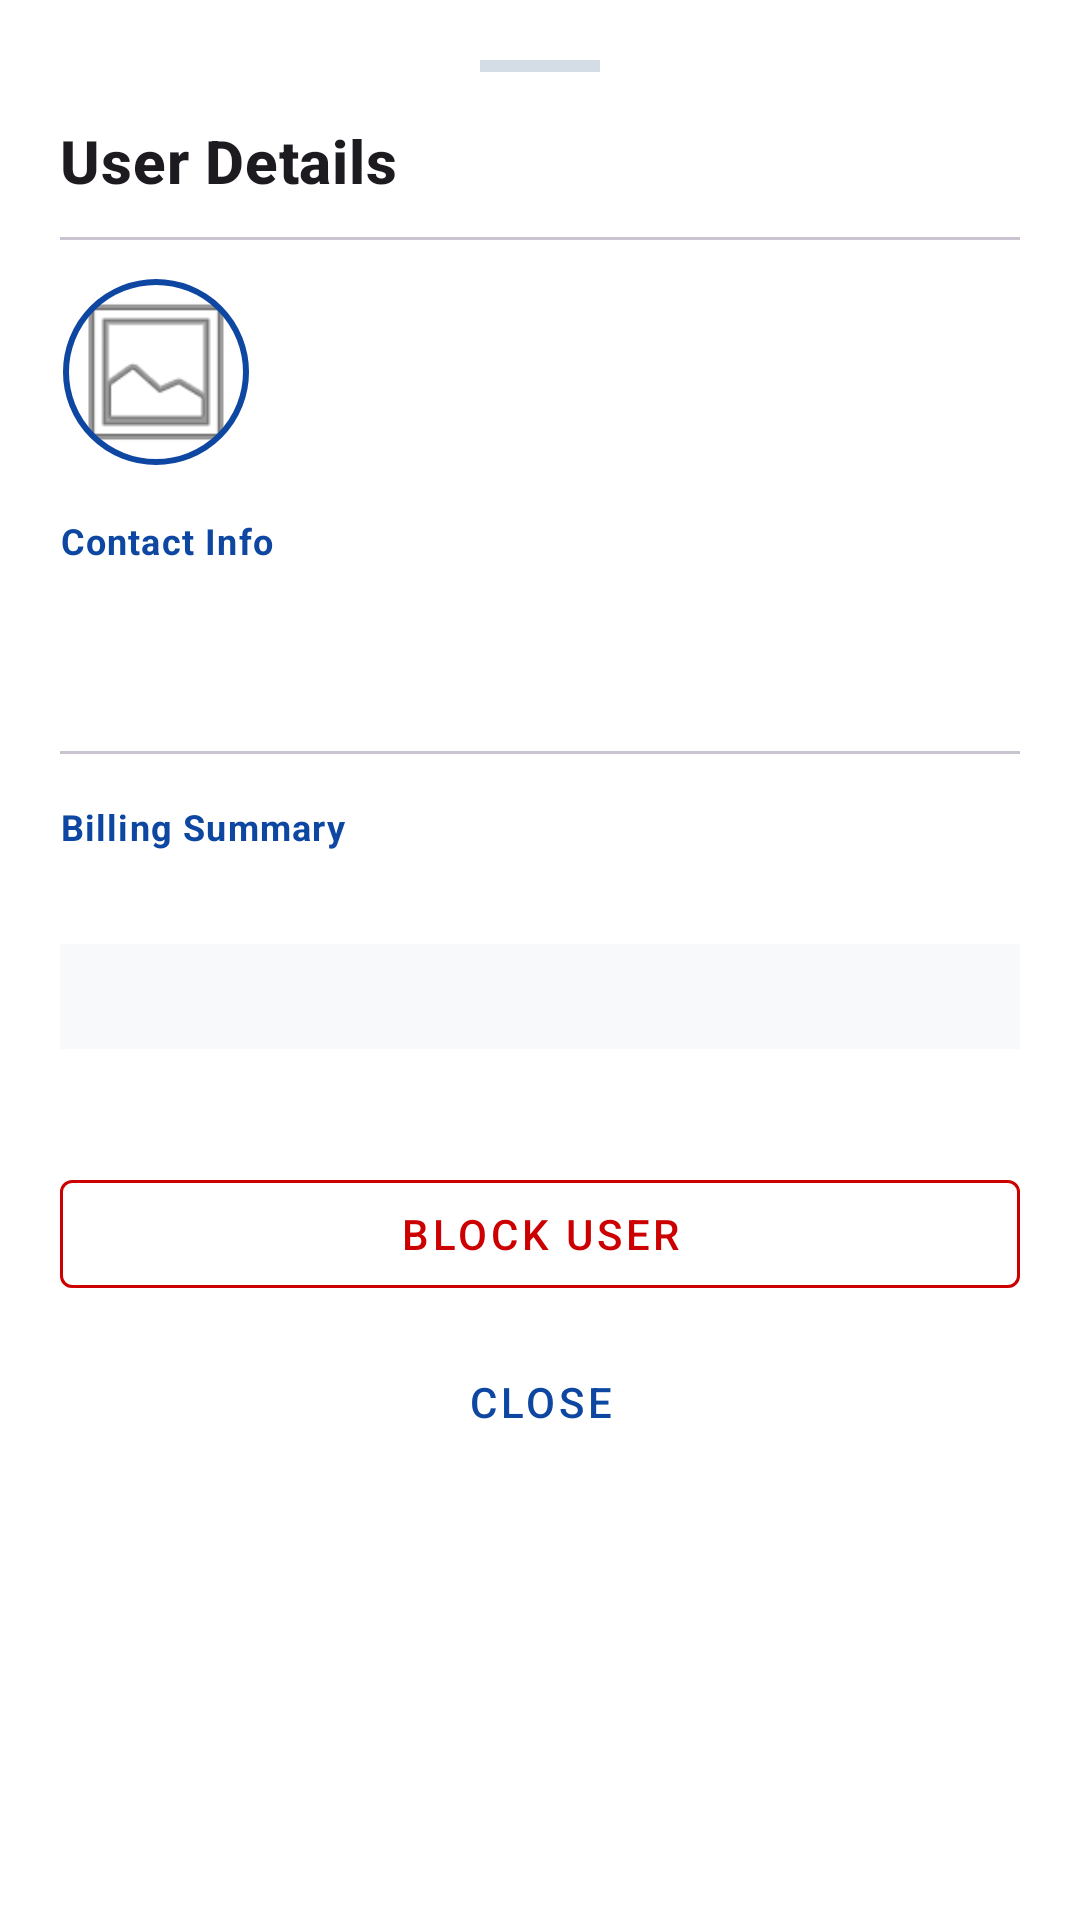

Icons on this 1080w x 1920h Android screen, each with the point to tap as [x,y]:
gallery: [156,372]
